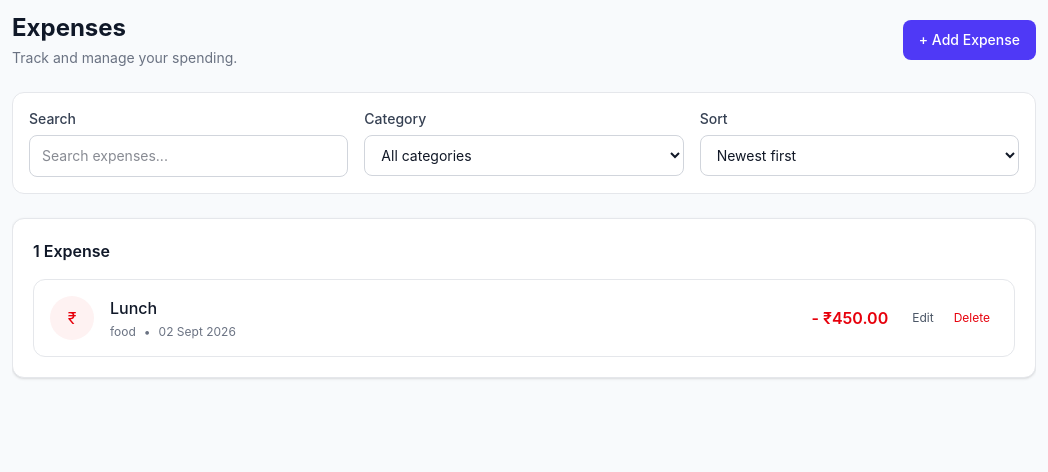
it: Expenses page › puts the row back and explains when the delete fails
Expected: the heading "Lunch" is shown, [110,298,157,318]
What coordinates should you click on to do the following:
click the button "Delete"
I would click on:
 (972, 318)
Its box is [946,306,998,330].
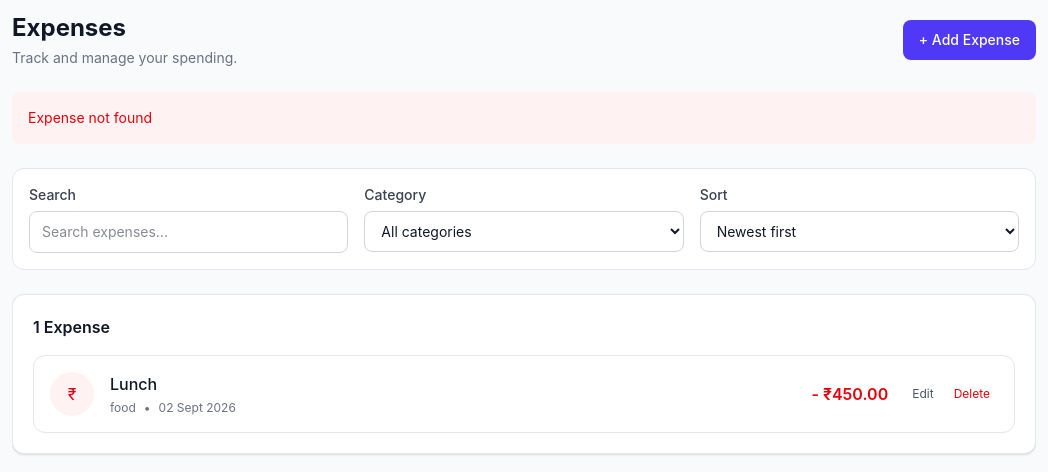
Expected: the heading "Lunch" is shown, [110,374,157,394]
Now the message reads "Expense not found", box [28,109,152,126]
